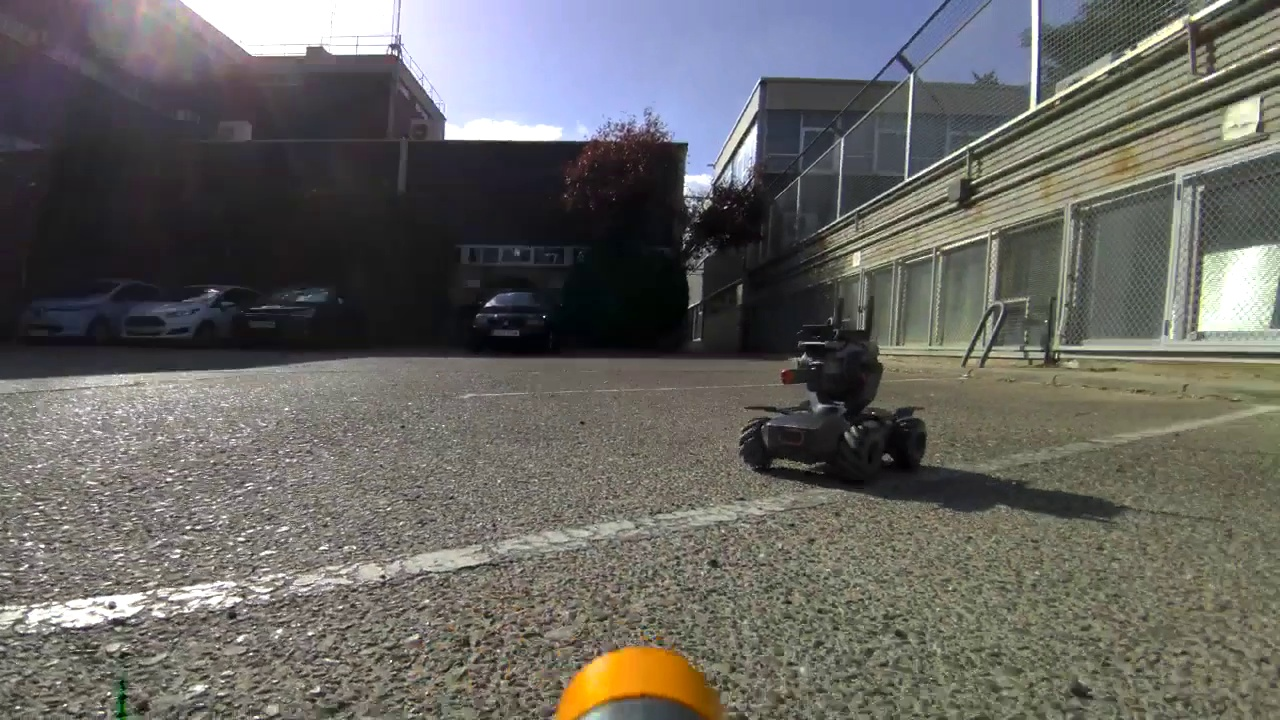robot: (745, 308, 925, 485)
